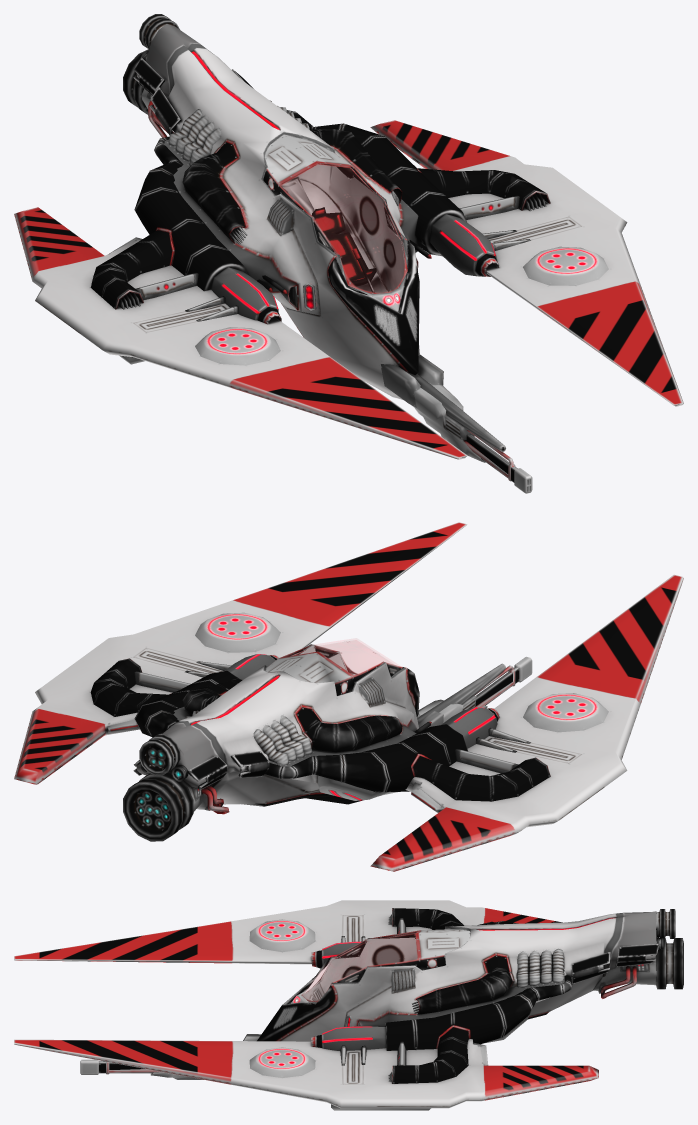
File: Drone Errante.glb
3 views of the same model, one above another, from view 1: azimuth 30°, elevation 25°; view 2: azimuth 150°, elevation 25°; view 3: azimuth 270°, elevation 25° (orthographic). The views are drawn at different scales.
Parts seen in each view (by area): view 1: Spaceship, Door, Glass; view 2: Spaceship, Door, Glass; view 3: Spaceship, Door, Glass.
Part boxes in pixels (<box>): Spaceship: <box>14,14,683,493</box>; Door: <box>263,136,404,257</box>; Glass: <box>278,162,407,293</box>; Spaceship: <box>14,522,683,871</box>; Door: <box>266,645,402,695</box>; Glass: <box>280,640,402,676</box>; Spaceship: <box>14,900,683,1110</box>; Door: <box>310,929,470,991</box>; Glass: <box>301,930,419,1002</box>.
Bounding box in the file's own units: 7.38 × 2.86 × 10.26.
2 materials, 2 textured.
